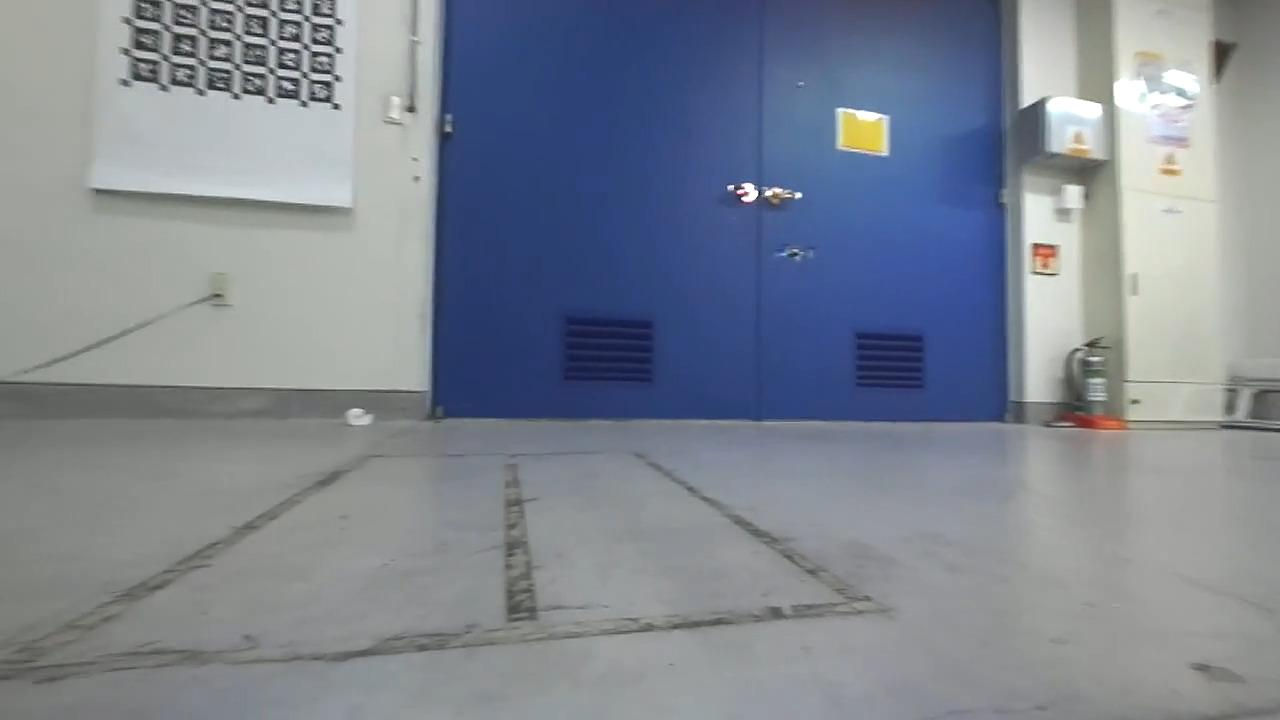crazyflie: (771, 243, 816, 265)
